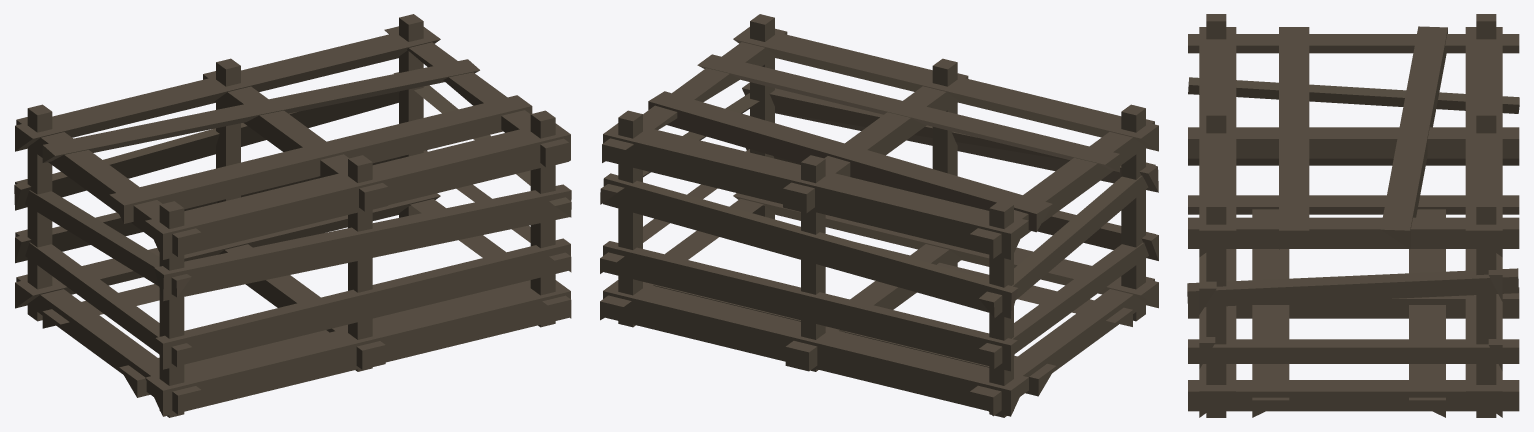
The model's file is SM_Prop_Fishing_Crate_01.glb.
3 views of the same model, side by side, from view 1: azimuth 30°, elevation 25°; view 2: azimuth 150°, elevation 25°; view 3: azimuth 270°, elevation 25° (orthographic). The views are drawn at different scales.
Parts seen in each view (by area): view 1: SM_Prop_Fishing_Crate_01_part00; view 2: SM_Prop_Fishing_Crate_01_part00; view 3: SM_Prop_Fishing_Crate_01_part00.
Part boxes in pixels (box(x1,y1,x2,y2)): SM_Prop_Fishing_Crate_01_part00: box(14, 14, 571, 417); SM_Prop_Fishing_Crate_01_part00: box(600, 14, 1158, 417); SM_Prop_Fishing_Crate_01_part00: box(1187, 14, 1519, 417).
Bounding box in the file's own units: 0.8695 × 0.4179 × 0.597.
1 material, 1 textured.
